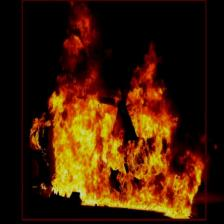fire: (21, 0, 206, 220)
